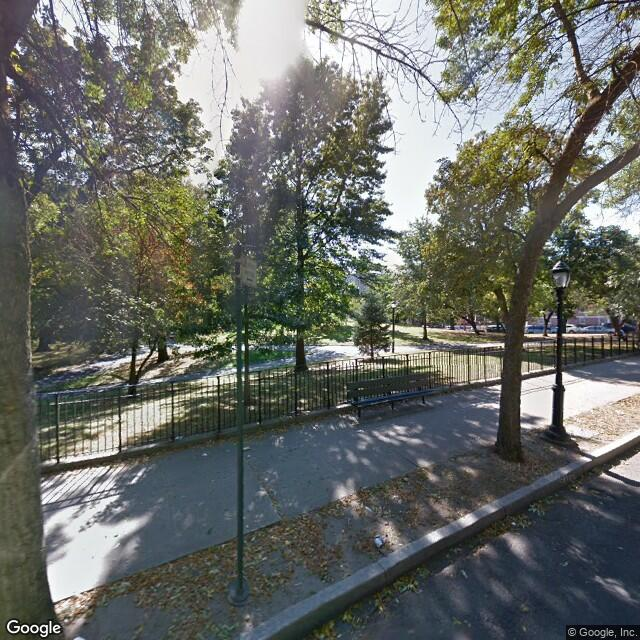litter: (375, 528, 388, 545)
